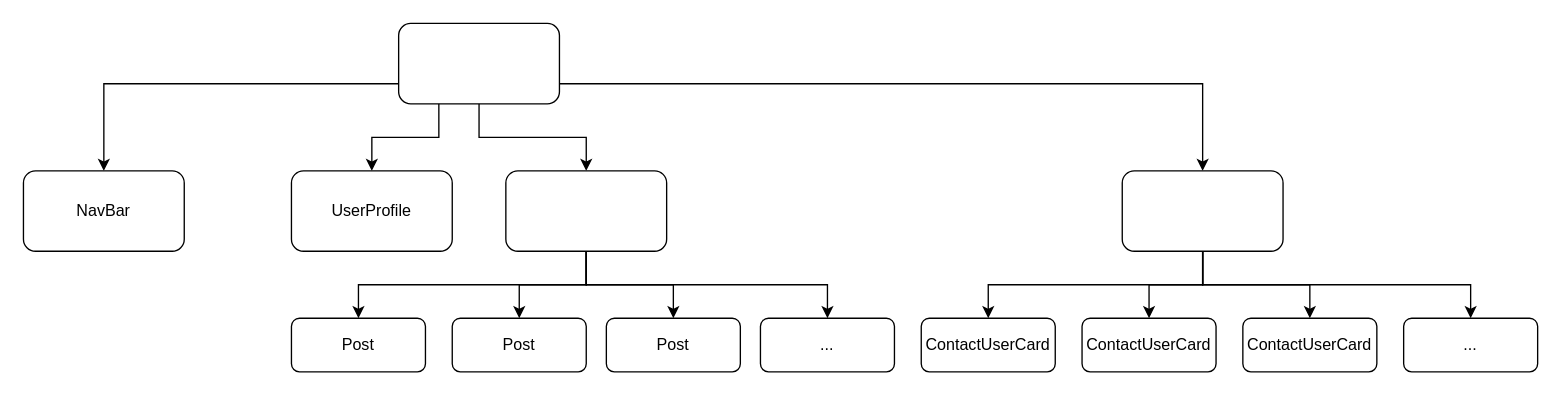
Image size: 1561x395. Some labels were removed from this diagram. Each missing label, with the box of its shape:
App: (397, 22, 559, 104)
Contacts: (1121, 170, 1283, 251)
Posts: (505, 170, 667, 251)
